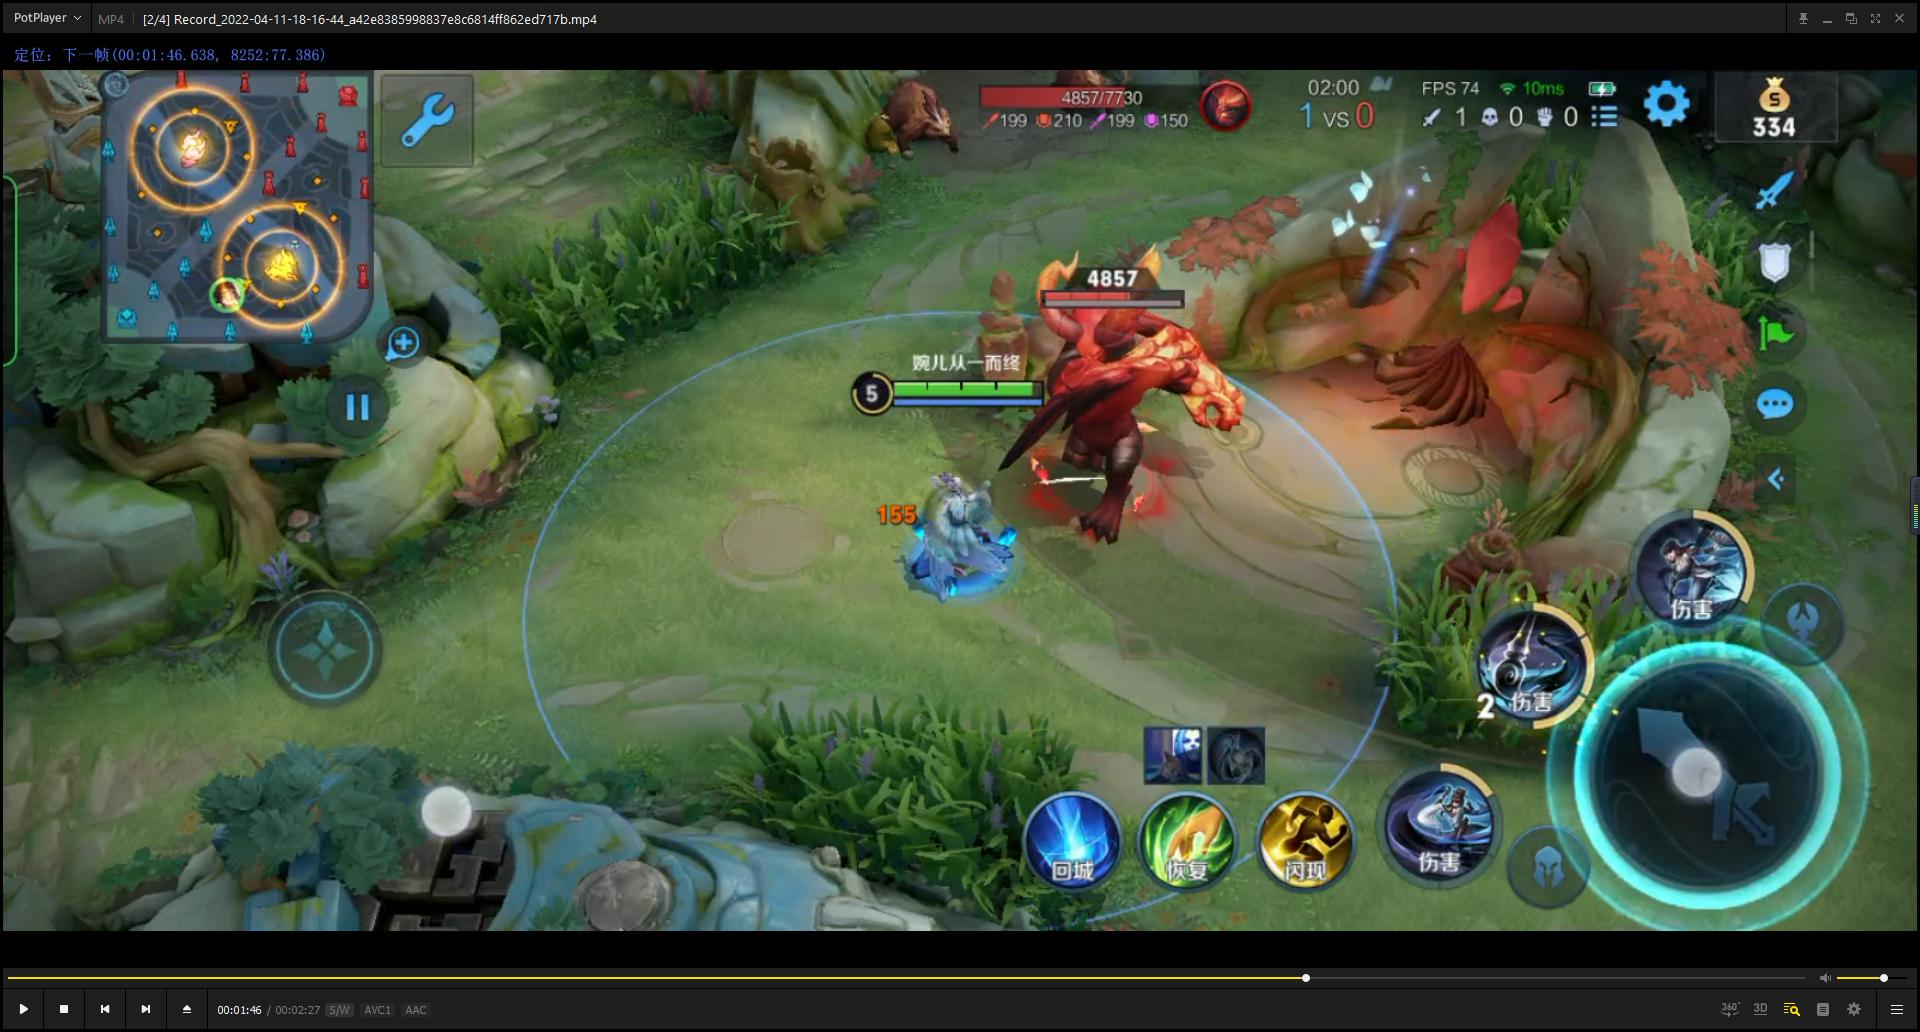Buff: (964, 235, 1290, 577)
Hero: (892, 466, 1018, 605)
Pig: (853, 72, 956, 163)
